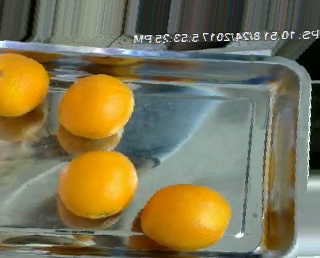Orange: (139, 183, 232, 250), (59, 148, 139, 218), (56, 72, 134, 140), (1, 51, 49, 116)
